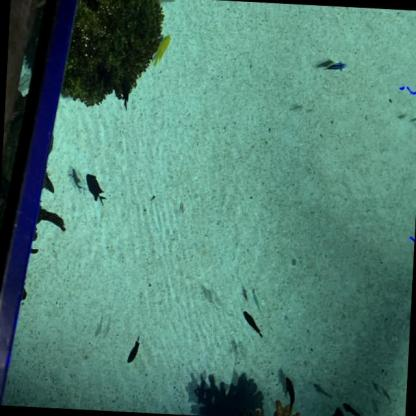fish: (85, 170, 108, 208), (240, 310, 265, 341), (152, 33, 172, 68), (282, 374, 298, 415), (125, 336, 142, 368), (324, 58, 346, 76), (342, 398, 364, 416), (252, 290, 262, 312), (330, 406, 349, 416)
